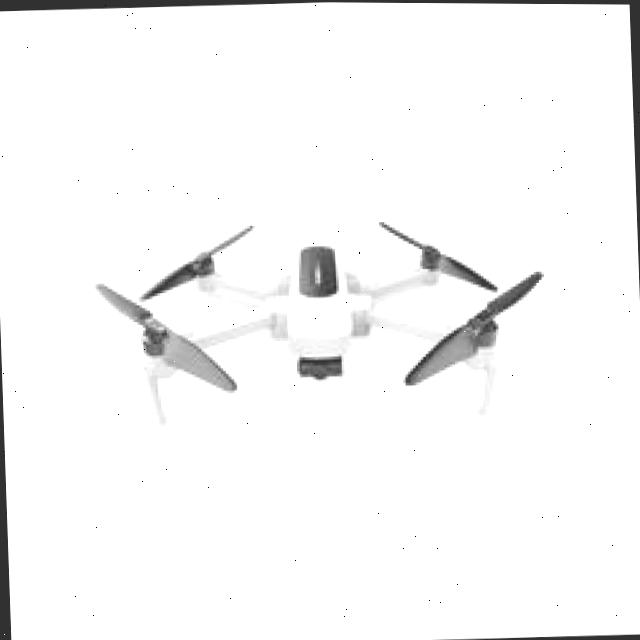drone: (82, 179, 566, 459)
